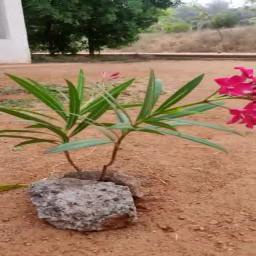OLEANDER: (4, 69, 255, 166)
